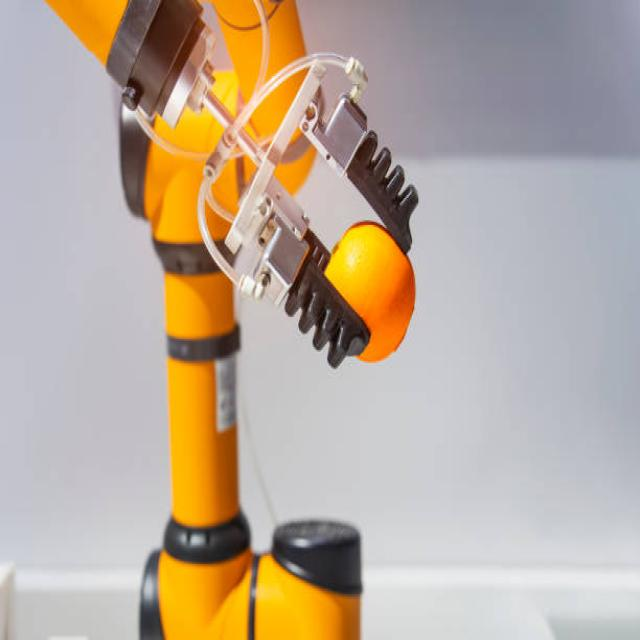Robotic-arm: (39, 0, 424, 640)
